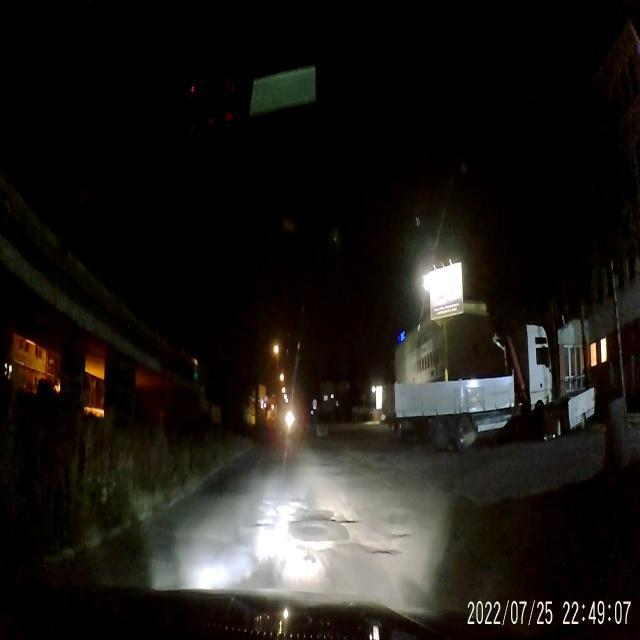Manhole: (310, 506, 334, 526), (300, 524, 326, 540), (388, 529, 416, 542)
Pothole: (364, 541, 398, 563), (334, 510, 358, 530), (250, 518, 274, 530)
